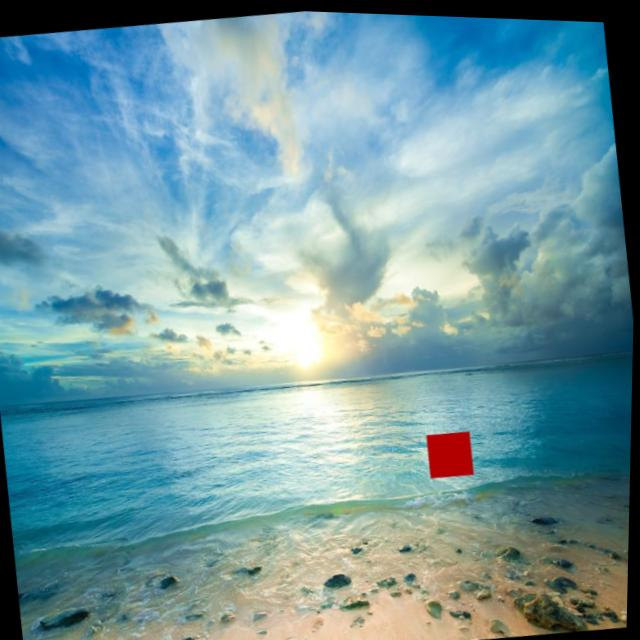RedSquare: (422, 418, 483, 485)
